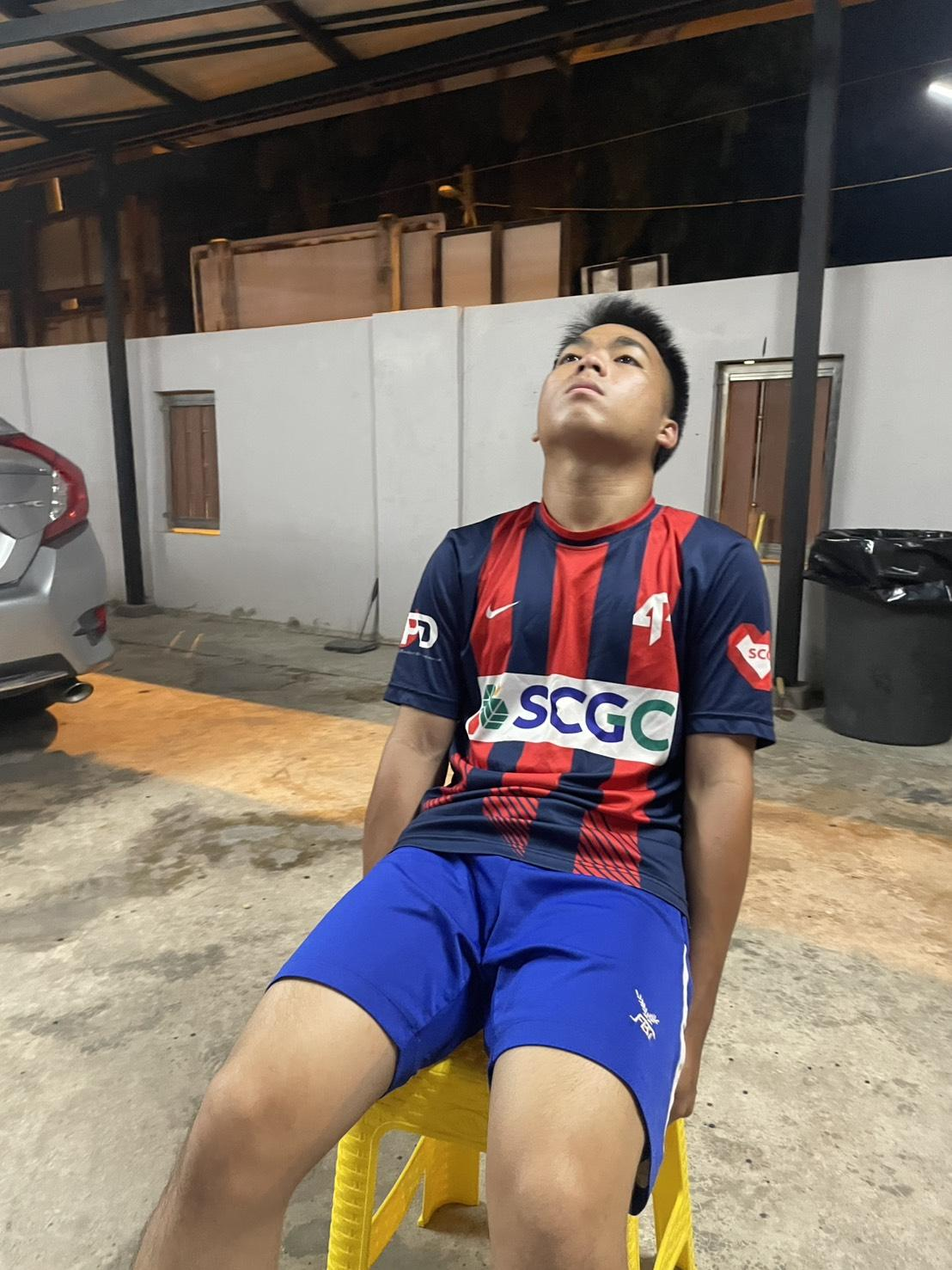BadPosture: (365, 296, 772, 906)
